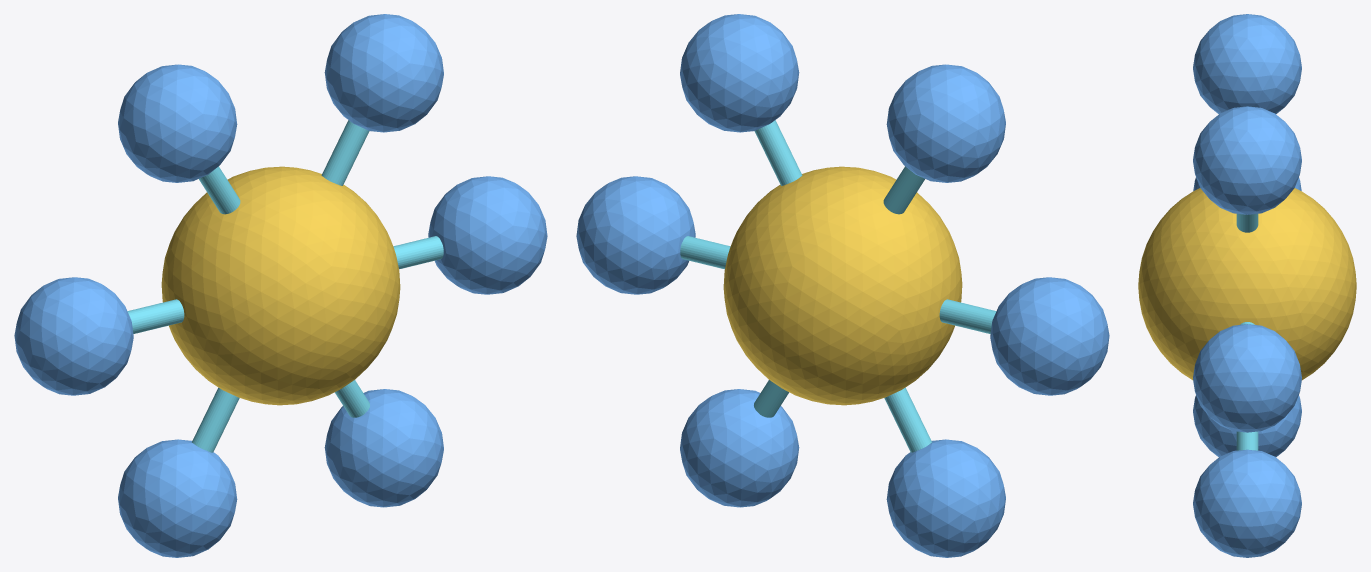
Rendered from figuras.glb.
3 views of the same model, side by side, from view 1: azimuth 30°, elevation 25°; view 2: azimuth 150°, elevation 25°; view 3: azimuth 270°, elevation 25° (orthographic). The views are drawn at different scales.
Visible parts, largest first — view 1: world; view 2: world; view 3: world.
Boxes of the visible parts, x1,y1,x2,y2 form: world: (14, 14, 547, 557); world: (576, 14, 1109, 557); world: (1138, 14, 1356, 557).
Bounding box in the file's own units: 3.5 × 3.12 × 1.4.
